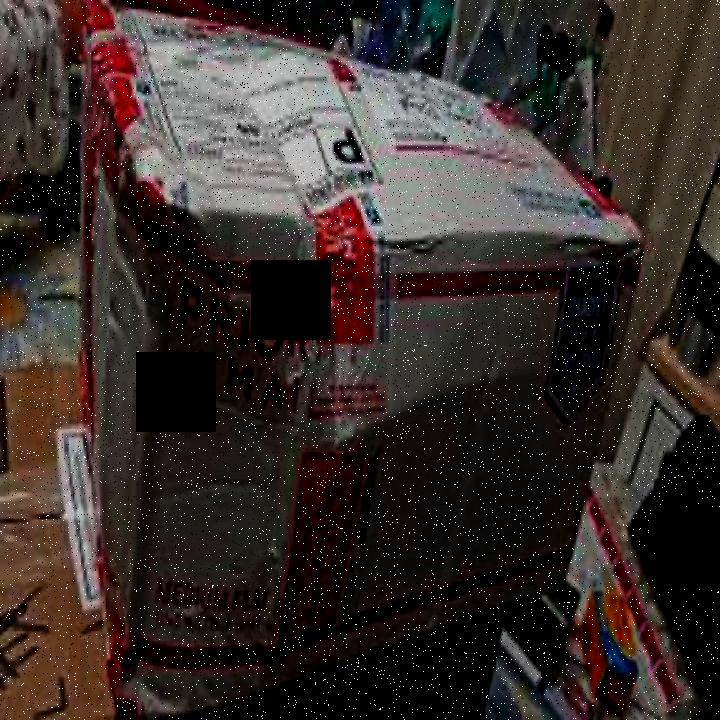box: (69, 2, 653, 708)
